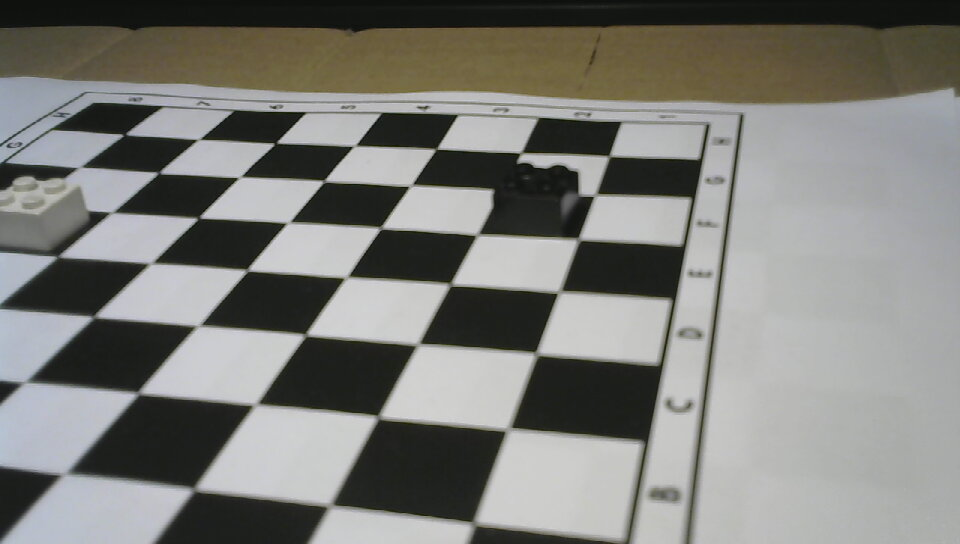bp: (490, 159, 585, 237)
